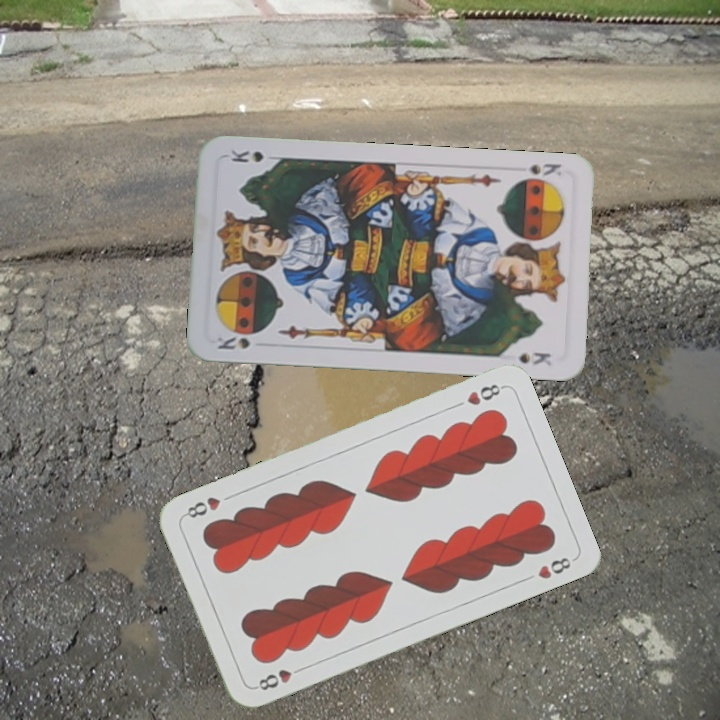H8: (250, 662, 307, 693), (462, 380, 506, 408)
SK: (213, 332, 253, 352), (525, 159, 564, 179)
